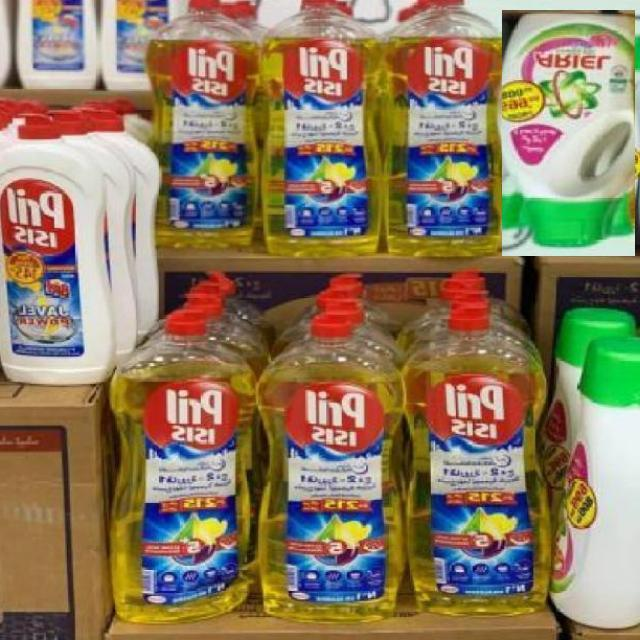Detergent: (501, 9, 635, 256)
